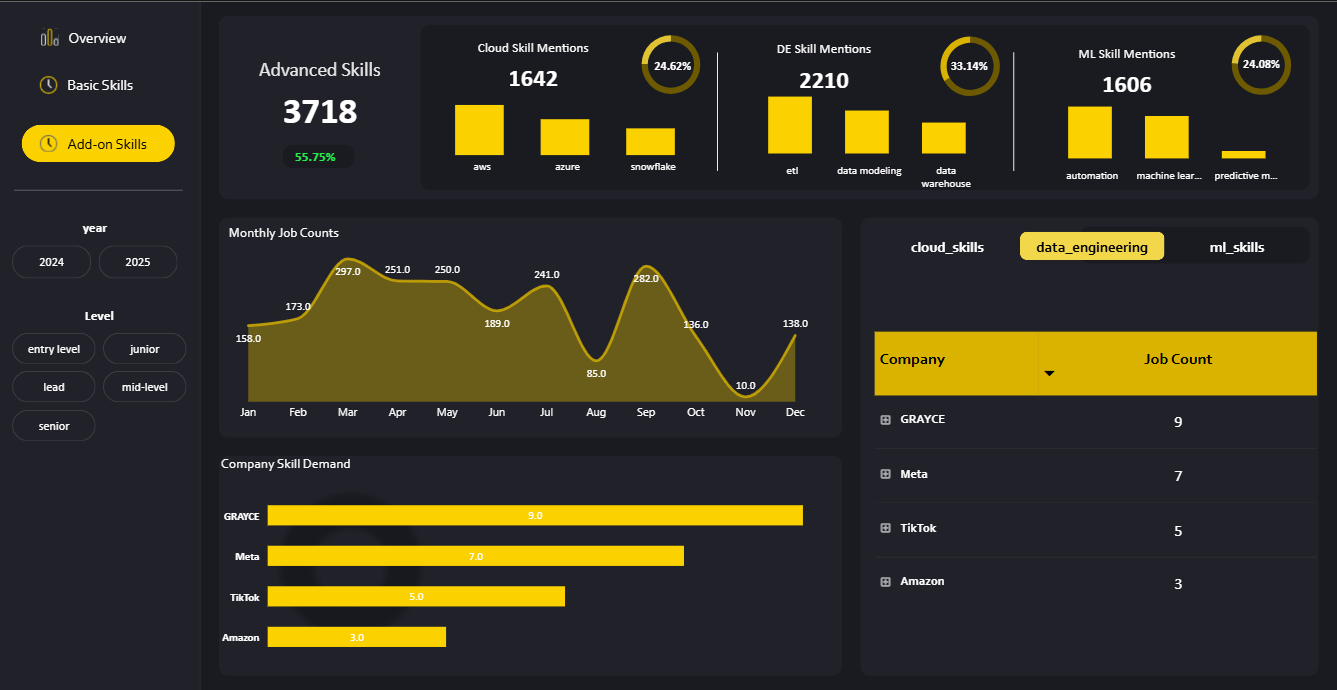

What the dashboard file says about the page in this screenshot:
{"tool":"powerbi","page":{"name":"Add-on Skills","canvas":[1460,800],"ordinal":2},"visuals":[{"type":"donutChart","fields":{"Category":["MentionStatus.Status"],"Y":["MentionStatus.Cloud Skills % Split"]},"box":[680,67.8,105.6,90],"z":0},{"type":"donutChart","fields":{"Y":["MentionStatus.Data Engineering % Split"],"Category":["MentionStatus.Status"]},"box":[1008.9,70,101.1,91.1],"z":1000},{"type":"donutChart","fields":{"Category":["MentionStatus.Status"],"Y":["MentionStatus.ML Skills % Split"]},"box":[1326.7,67.8,101.1,91.1],"z":2000},{"type":"pivotTable","fields":{"Rows":["dim_company.company_name","dim_skills.skill_name"],"Values":["Measures (3).Job Count by Selected Skills"]},"box":[950.6,399.8,498.7,320.1],"z":3000},{"type":"clusteredBarChart","title":"Company Skill Demand","fields":{"Category":["dim_company.company_name"],"Y":["Measures (3).Job Count by Selected Skills"]},"box":[237.1,540,667.1,232.9],"z":4000},{"type":"cardVisual","fields":{"Data":["Measures (3).Advanced Skills Mentions"]},"box":[245.4,77.7,210,136.3],"z":5000},{"type":"shape","box":[309.7,200.2,78.5,25.8],"z":6000},{"type":"card","fields":{"Values":["Measures (3).Overall % of Skill Mentions"]},"box":[301.1,197.8,87.8,34.4],"z":7000},{"type":"shape","box":[777.5,98.9,13.1,129.4],"z":8000},{"type":"shape","box":[1099.8,98.9,13.1,129.4],"z":9000},{"type":"card","fields":{"Values":["MentionStatus.Cloud Skills % of All Jobs"]},"box":[687.8,88.4,93.1,55.3],"z":10000},{"type":"card","fields":{"Values":["MentionStatus.Data Engineering Skills % of All Jobs"]},"box":[1020.1,92,77.1,49.4],"z":11000},{"type":"card","fields":{"Values":["MentionStatus.ML Skills % of All Jobs"]},"box":[1341.5,90.5,71.3,49.4],"z":12000},{"type":"cardVisual","fields":{"Data":["Measures (3).Cloud Skill Mentions"]},"box":[471.2,60.7,222.5,106.2],"z":13000},{"type":"cardVisual","fields":{"Data":["Measures (3).Data Engineering Skill Mentions"]},"box":[790,64.3,221.4,105.7],"z":14000},{"type":"cardVisual","fields":{"Data":["Measures (3).ML Skill Mentions"]},"box":[1118.9,67.8,222.2,107.8],"z":15000},{"type":"clusteredColumnChart","fields":{"Category":["dim_skills.skill_name"],"Y":["CountNonNull(bridge_job_skill.job_id)"]},"box":[455.7,131.4,330,110],"z":16000},{"type":"areaChart","fields":{"Category":["dim_dates.full_date Hierarchy.Short Month"],"Y":["Measures (3).Job Count by Selected Skills"]},"box":[245.7,310,650,201.4],"z":17000},{"type":"advancedSlicerVisual","fields":{"Values":["dim_category.category_name"]},"box":[950.6,289.9,484.9,41.2],"z":18000},{"type":"advancedSlicerVisual","fields":{"Values":["dim_dates.year"]},"box":[10,282,190,69],"z":19000},{"type":"advancedSlicerVisual","fields":{"Values":["dim_senority_level.seniority_level"]},"box":[10,377,200,151],"z":20000},{"type":"shape","box":[16.9,239.6,184.1,20.3],"z":21000},{"type":"shape","box":[237.4,0,276.8,40.6],"z":22000},{"type":"shape","box":[251.4,280.2,346.2,30.2],"z":23000},{"type":"clusteredColumnChart","fields":{"Category":["dim_skills.skill_name"],"Y":["CountNonNull(bridge_job_skill.job_id)"]},"box":[782.9,128.6,315.7,130],"z":25000},{"type":"clusteredColumnChart","fields":{"Category":["dim_skills.skill_name"],"Y":["CountNonNull(bridge_job_skill.job_id)"]},"box":[1110,138.2,315.5,111.8],"z":26000},{"type":"actionButton","box":[25.8,62.5,167.5,40.8],"z":27000},{"type":"actionButton","box":[25,179.2,167.5,40.8],"z":28000},{"type":"actionButton","box":[25,115,168.3,41.7],"z":29000}]}

Visuals, with their boxes on the page's 1460x800 design canvas (x1, y1, x2, y2). These are canvas units, not pixel positions in the 1337x690 screenshot, which may show the page scaled, cropped or inside an application window:
donutChart - MentionStatus.Status x MentionStatus.Cloud Skills % Split: 680,68,786,158
donutChart - MentionStatus.Data Engineering % Split x MentionStatus.Status: 1009,70,1110,161
donutChart - MentionStatus.Status x MentionStatus.ML Skills % Split: 1327,68,1428,159
pivotTable - dim_company.company_name x dim_skills.skill_name: 951,400,1449,720
"Company Skill Demand" clusteredBarChart: 237,540,904,773
cardVisual - Measures (3).Advanced Skills Mentions: 245,78,455,214
shape: 310,200,388,226
card - Measures (3).Overall % of Skill Mentions: 301,198,389,232
shape: 778,99,791,228
shape: 1100,99,1113,228
card - MentionStatus.Cloud Skills % of All Jobs: 688,88,781,144
card - MentionStatus.Data Engineering Skills % of All Jobs: 1020,92,1097,141
card - MentionStatus.ML Skills % of All Jobs: 1342,90,1413,140
cardVisual - Measures (3).Cloud Skill Mentions: 471,61,694,167
cardVisual - Measures (3).Data Engineering Skill Mentions: 790,64,1011,170
cardVisual - Measures (3).ML Skill Mentions: 1119,68,1341,176
clusteredColumnChart - dim_skills.skill_name x CountNonNull(bridge_job_skill.job_id): 456,131,786,241
areaChart - dim_dates.full_date Hierarchy.Short Month x Measures (3).Job Count by Selected Skills: 246,310,896,511
advancedSlicerVisual - dim_category.category_name: 951,290,1436,331
advancedSlicerVisual - dim_dates.year: 10,282,200,351
advancedSlicerVisual - dim_senority_level.seniority_level: 10,377,210,528
shape: 17,240,201,260
shape: 237,0,514,41
shape: 251,280,598,310
clusteredColumnChart - dim_skills.skill_name x CountNonNull(bridge_job_skill.job_id): 783,129,1099,259
clusteredColumnChart - dim_skills.skill_name x CountNonNull(bridge_job_skill.job_id): 1110,138,1426,250
actionButton: 26,62,193,103
actionButton: 25,179,192,220
actionButton: 25,115,193,157
